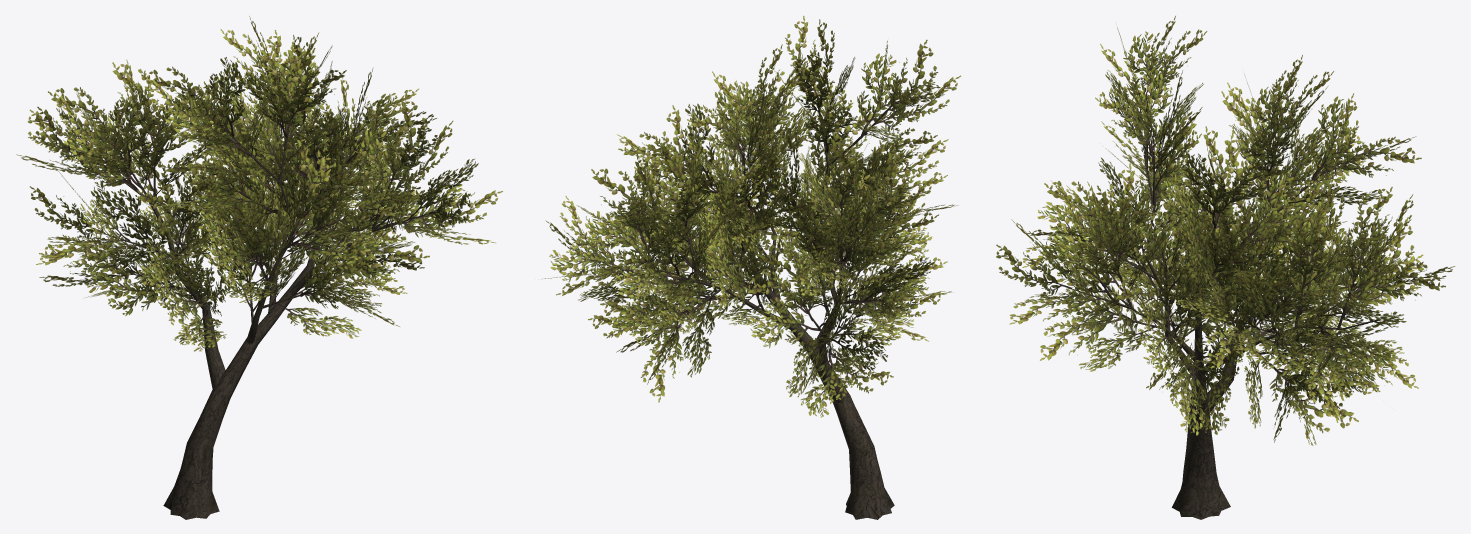
3 renders of one model, left to right at view 1: azimuth 30°, elevation 25°; view 2: azimuth 150°, elevation 25°; view 3: azimuth 270°, elevation 25°, orthographic. The views are drawn at different scales.
Visible parts, largest first — view 1: Canopy 1, Spline Branch E001, Spline Branch A001, Spline Branch B001; view 2: Canopy 1, Spline Branch E001, Spline Branch A001; view 3: Canopy 1, Spline Branch E001, Spline Branch A001.
Part boxes in pixels (x1,y1,x2,y2): Canopy 1: [16, 16, 502, 351]; Spline Branch E001: [163, 180, 325, 519]; Spline Branch A001: [148, 194, 225, 388]; Spline Branch B001: [246, 158, 295, 343]; Canopy 1: [544, 15, 960, 417]; Spline Branch E001: [747, 198, 894, 519]; Spline Branch A001: [818, 260, 844, 403]; Canopy 1: [996, 16, 1455, 445]; Spline Branch E001: [1172, 278, 1230, 519]; Spline Branch A001: [1207, 210, 1278, 414].
Size of the model in its own units: 489 by 555 by 486.
Materials: 2 (2 with a texture image).
